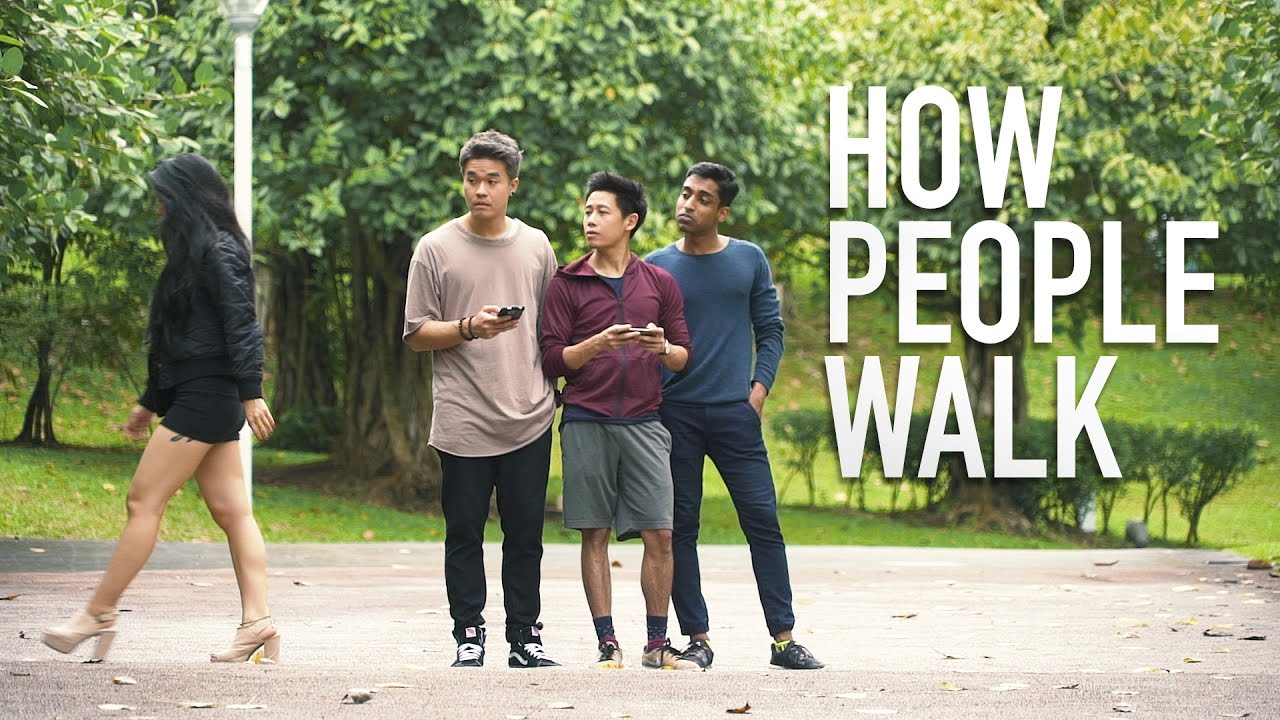NOTSAFE: (145, 155, 265, 438), (433, 127, 543, 413), (556, 172, 660, 427), (673, 159, 757, 410)
